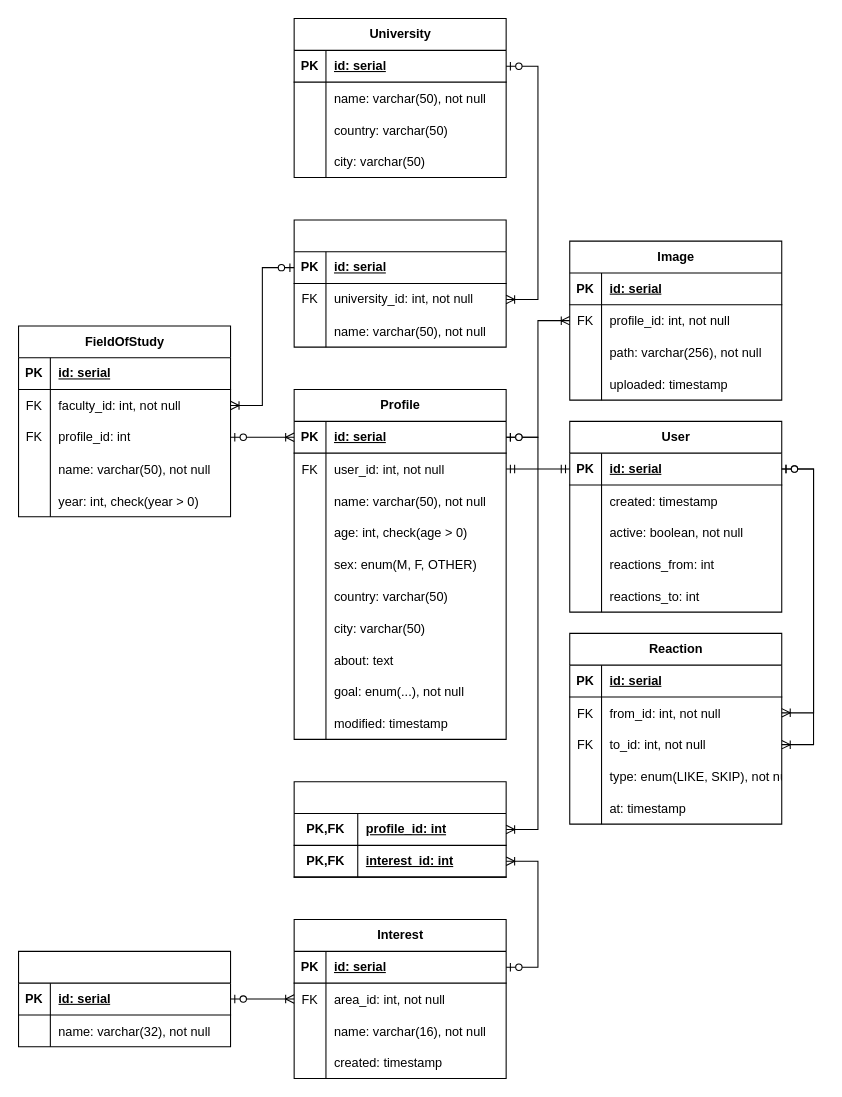
Some shapes in this 842 by 1097 pixel diagram are drawn without their labels. Each missing label, with the box of its shape:
AreaOfInterest: (17, 950, 231, 1047)
Faculty: (293, 219, 506, 347)
ProfileInterestRelation: (293, 781, 506, 877)
